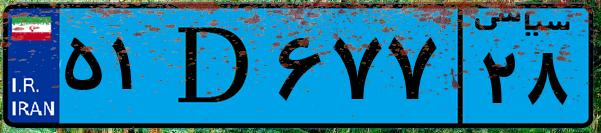1: (110, 28, 158, 98)
2: (475, 38, 525, 113)
5: (57, 26, 110, 100)
6: (270, 28, 330, 110)
7: (385, 28, 445, 110), (330, 28, 385, 110)
8: (525, 38, 570, 115)
D: (158, 12, 270, 120)
